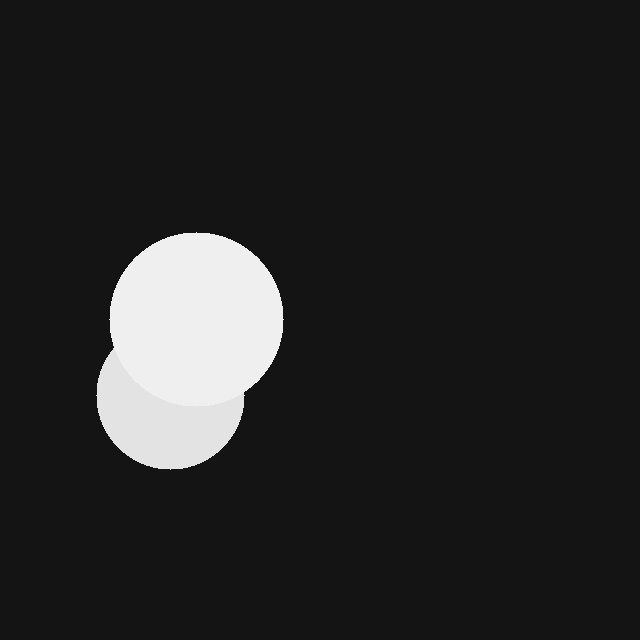circle: (109, 232, 283, 406), (96, 321, 244, 469)
